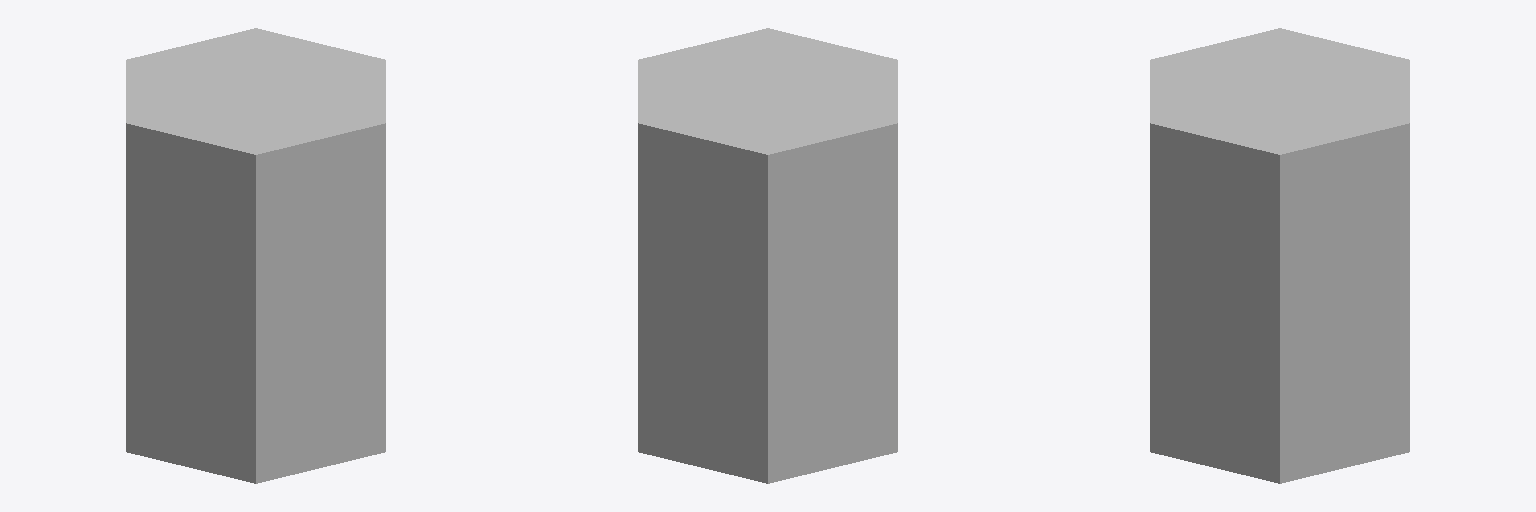
Rendered from BarrelColl.obj.
3 renders of one model, left to right at view 1: azimuth 30°, elevation 25°; view 2: azimuth 150°, elevation 25°; view 3: azimuth 270°, elevation 25°, orthographic.
Parts seen in each view (by area): view 1: fadewood; view 2: fadewood; view 3: fadewood.
Boxes of the visible parts, x1=… form: fadewood: x1=126, y1=28, x2=385, y2=483; fadewood: x1=638, y1=28, x2=897, y2=483; fadewood: x1=1150, y1=28, x2=1409, y2=483.
Size of the model in its own units: 7.14 by 8.63 by 6.19.